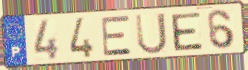4: (32, 18, 62, 62), (68, 16, 97, 60)
6: (206, 8, 237, 52)
E: (99, 14, 134, 58), (169, 11, 205, 52)
U: (133, 11, 169, 56)
